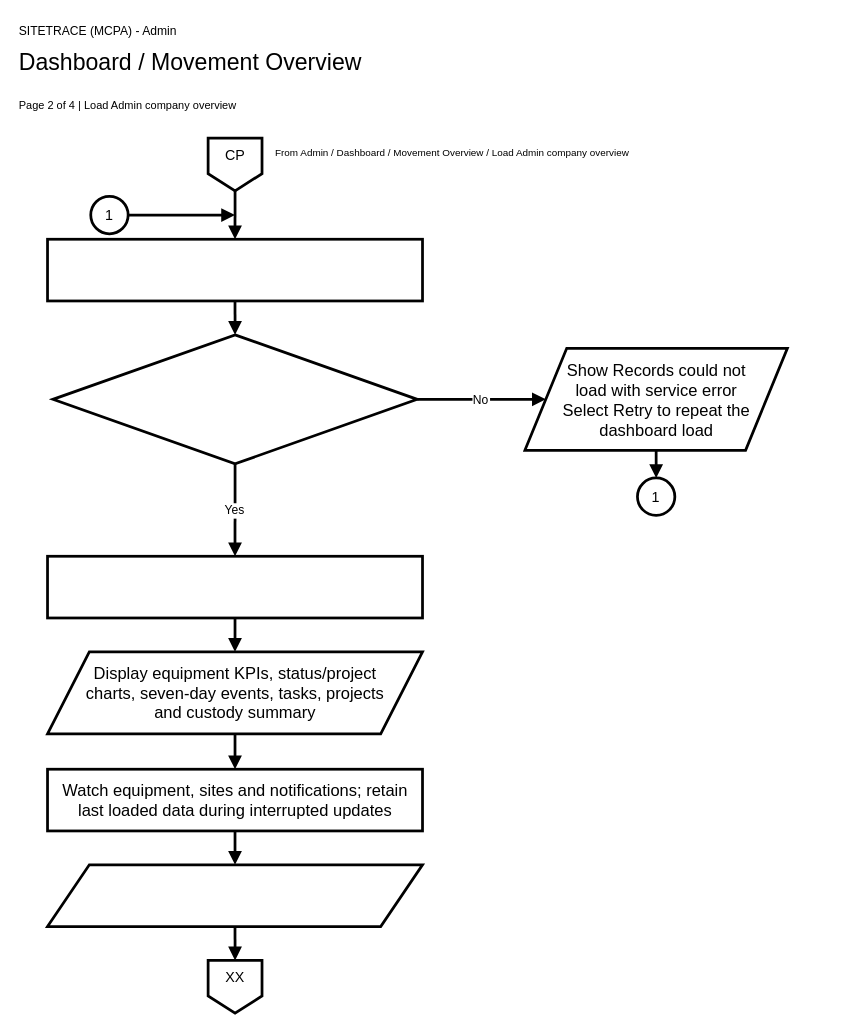
Some shapes in this 859 by 1033 pixel diagram are drawn without their labels. Each missing label, with the box of its shape:
Company overview is displayed; module links retain route authorization.: (46, 863, 423, 927)
Refresh MovementStore and read EquipmentTracking snapshot in parallel: (46, 237, 423, 302)
The inventory snapshot read succeeds?: (51, 333, 418, 465)
Use current inventory; preserve movement warning if movement history failed: (46, 554, 423, 619)
